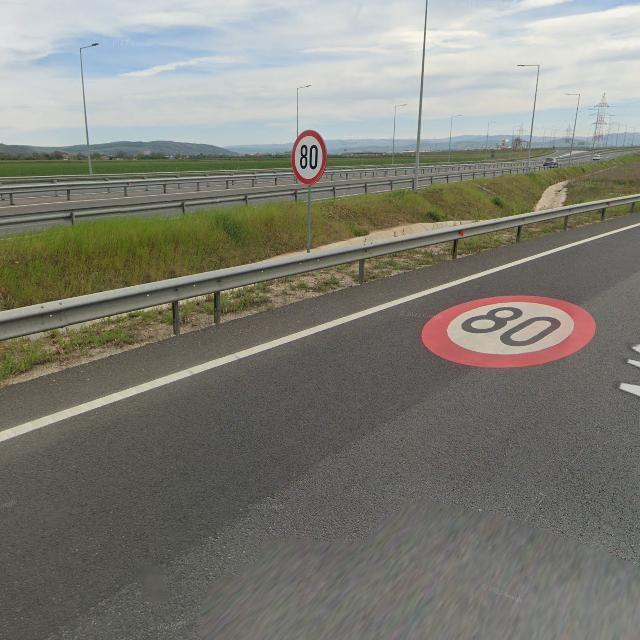forb_speed_over_80: (420, 292, 599, 373), (291, 129, 327, 186)
